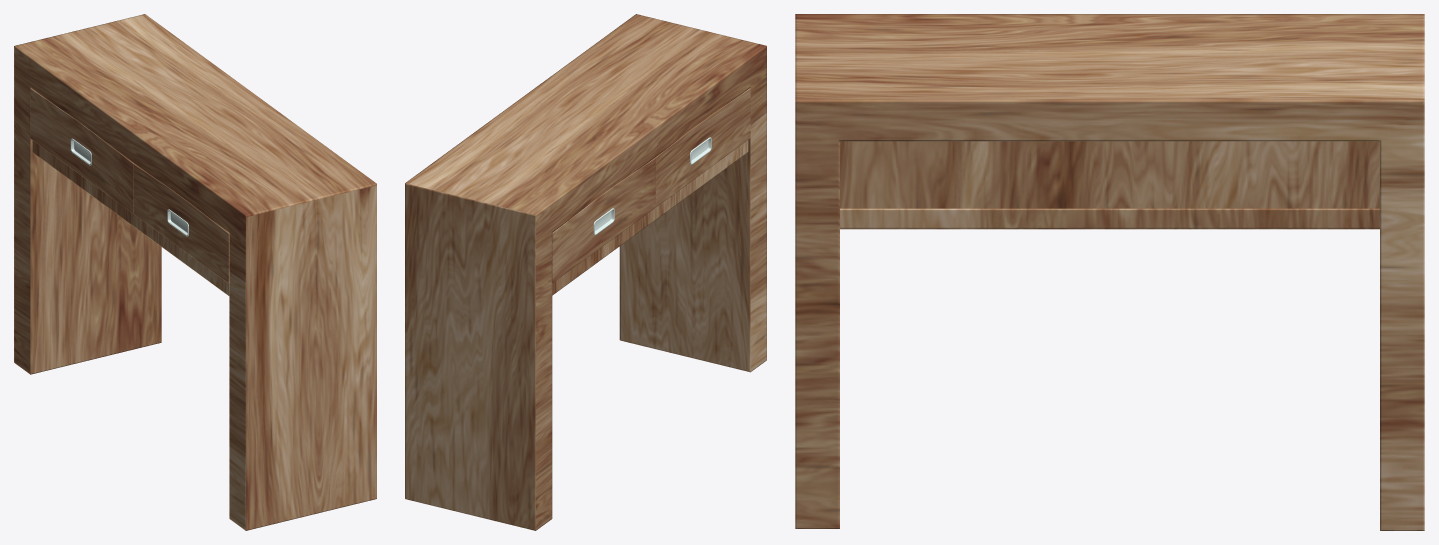
Rendered from table_02.obj.
3 renders of one model, left to right at view 1: azimuth 30°, elevation 25°; view 2: azimuth 150°, elevation 25°; view 3: azimuth 270°, elevation 25°, orthographic. The views are drawn at different scales.
Visible parts, largest first — view 1: table_02; view 2: table_02; view 3: table_02.
Boxes of the visible parts, x1,y1,x2,y2 form: table_02: (14, 14, 376, 530); table_02: (405, 14, 766, 530); table_02: (795, 14, 1424, 530).
Size of the model in its own units: 1.5 by 3.43 by 4.55.
